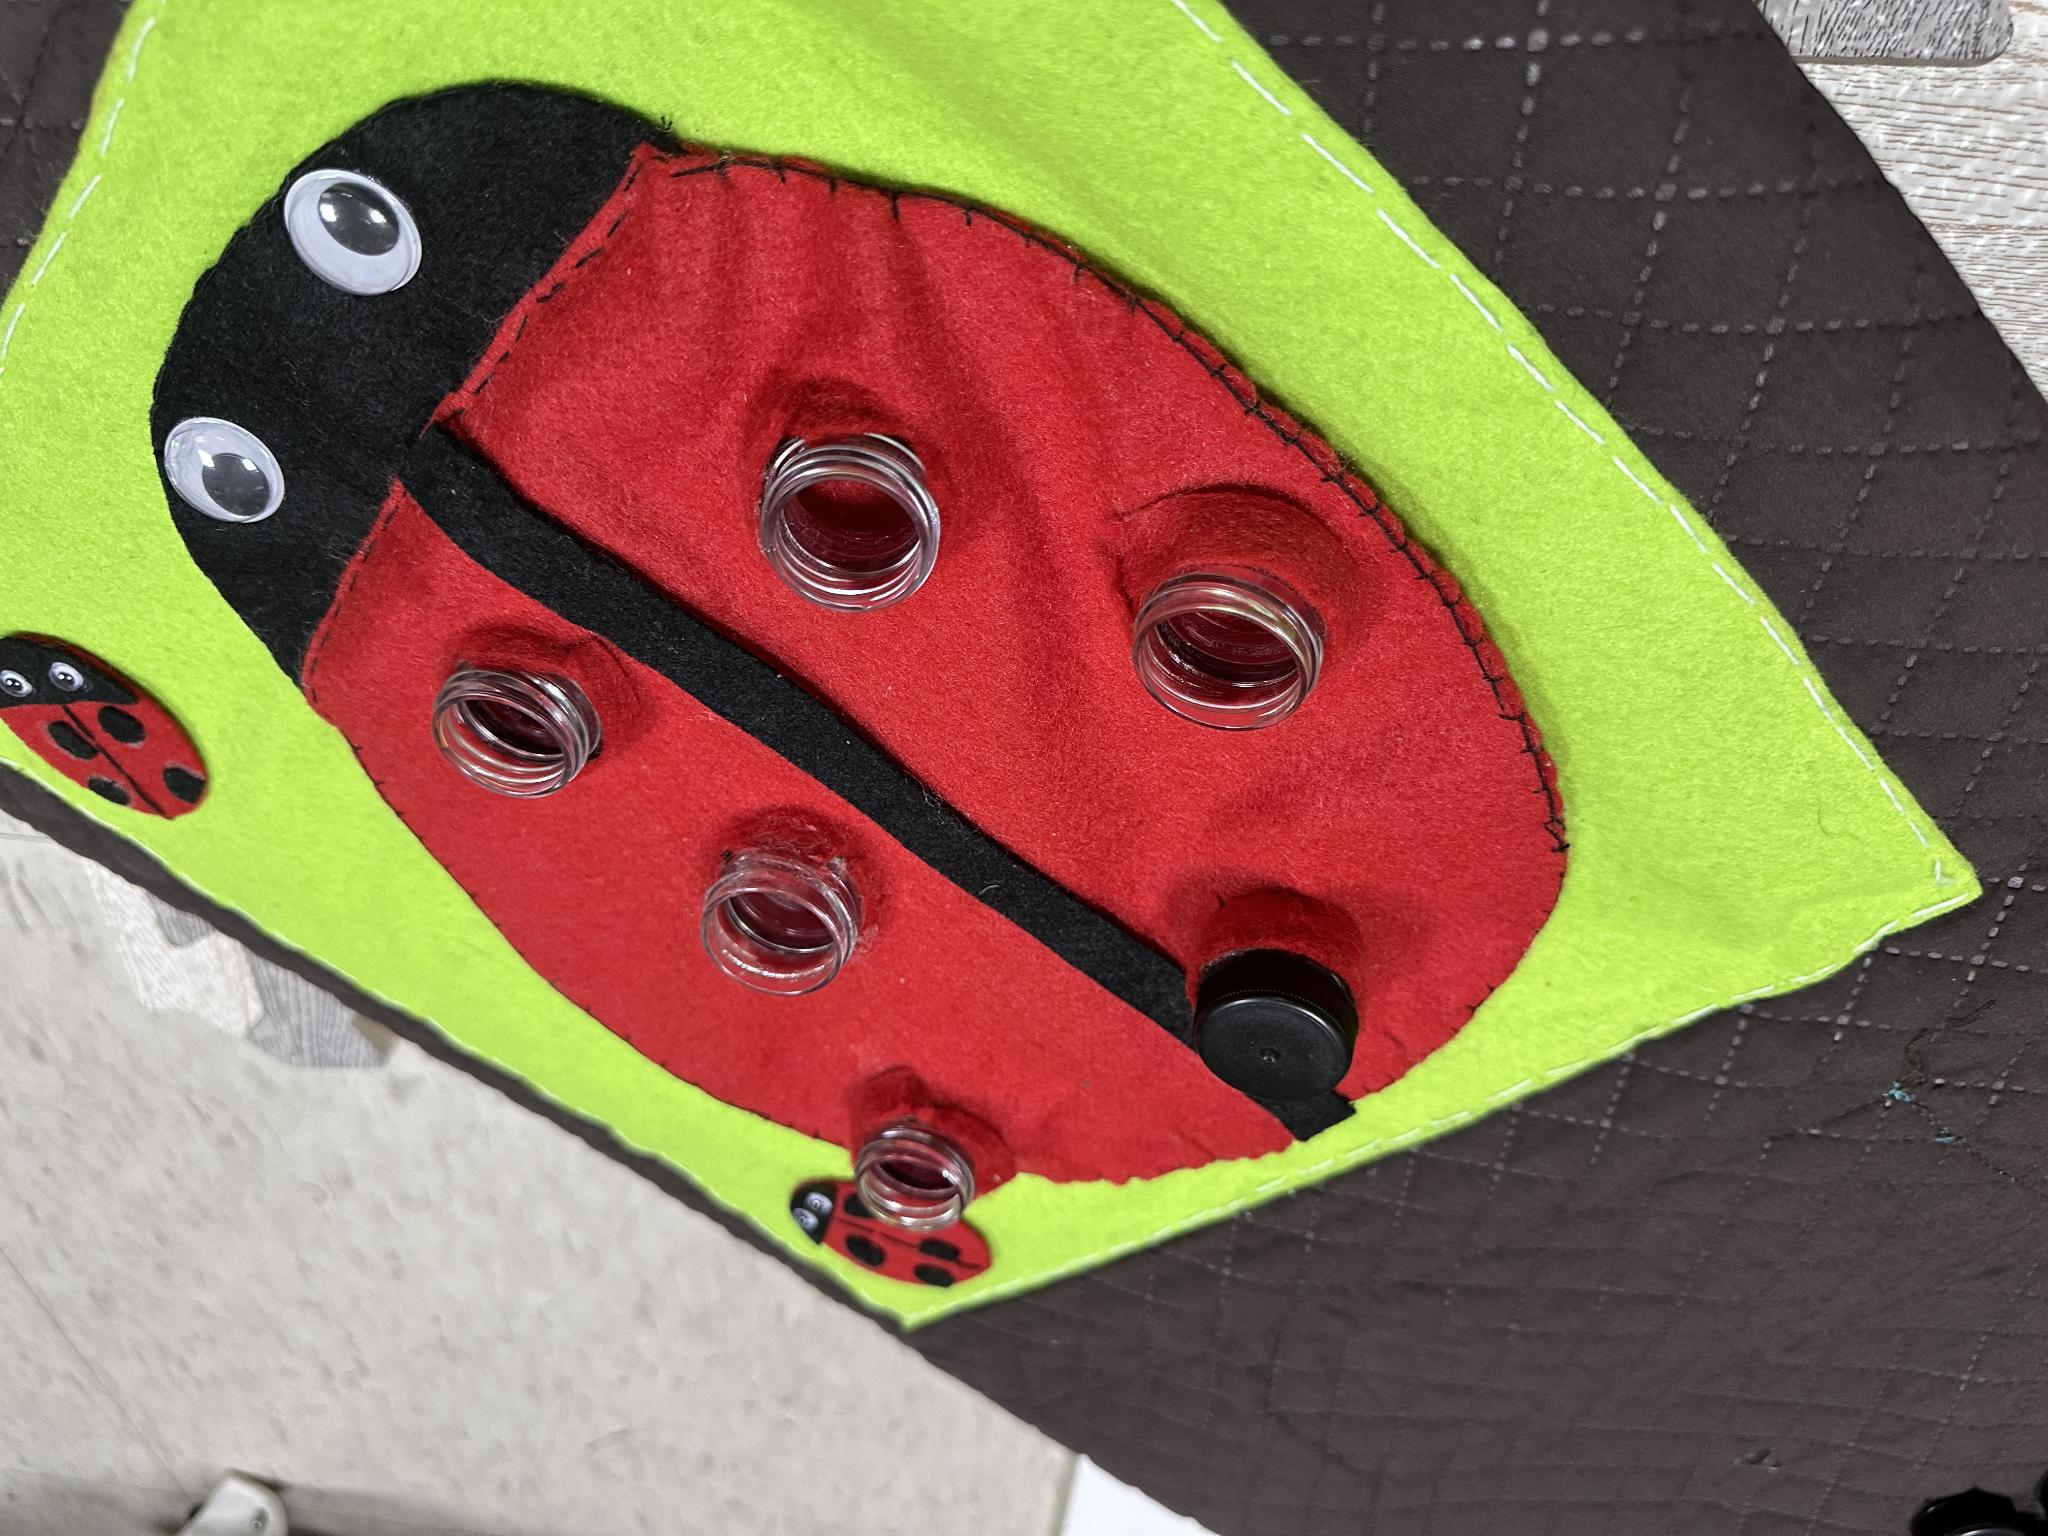cap_ok: (1171, 871, 1397, 1125)
